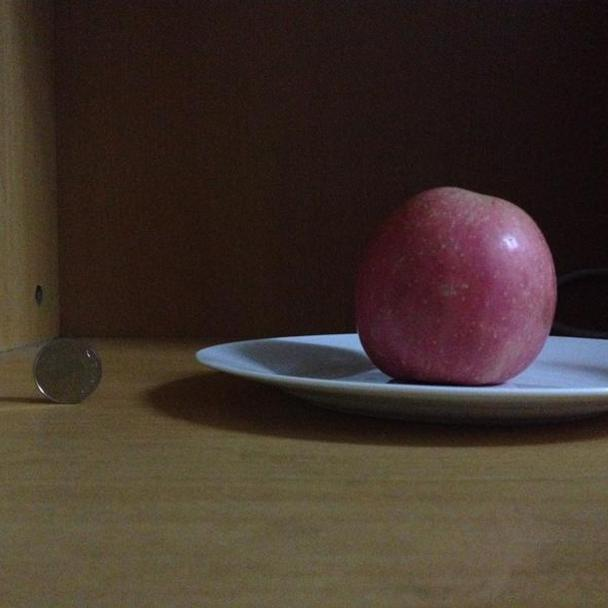apple: (351, 187, 558, 384)
